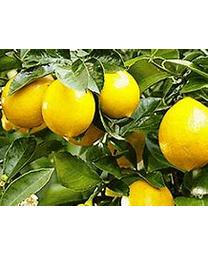lemon: (159, 97, 207, 171), (43, 78, 94, 138), (2, 74, 56, 128), (96, 66, 140, 118)
